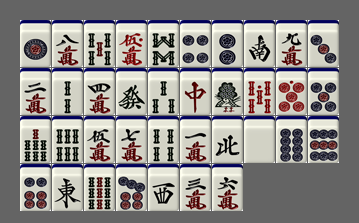0m: (116, 20, 147, 67)
0p: (276, 68, 307, 115)
0s: (244, 68, 275, 115)
1m: (180, 116, 211, 163)
1p: (20, 20, 51, 67)
1s: (212, 68, 243, 115)
1z: (52, 164, 83, 211)
2m: (20, 68, 51, 115)
2p: (212, 20, 243, 67)
2s: (52, 68, 83, 115)
2z: (244, 20, 275, 67)
3m: (180, 164, 211, 211)
3p: (308, 20, 339, 67)
3s: (148, 68, 179, 115)
3z: (148, 164, 179, 211)
4m: (84, 68, 115, 115)
4p: (180, 20, 211, 67)
4s: (148, 116, 179, 163)
4z: (212, 116, 243, 163)
5m: (84, 116, 115, 163)
5p: (308, 68, 339, 115)
5s: (84, 20, 115, 67)
5z: (244, 116, 275, 163)
6m: (212, 164, 243, 211)
6p: (20, 164, 51, 211)
6s: (52, 116, 83, 163)
6z: (116, 68, 147, 115)
7m: (116, 116, 147, 163)
7p: (116, 164, 147, 211)
7s: (20, 116, 51, 163)
7z: (180, 68, 211, 115)
8m: (52, 20, 83, 67)
8p: (276, 116, 307, 163)
8s: (148, 20, 179, 67)
9m: (276, 20, 307, 67)
9p: (308, 116, 339, 163)
9s: (84, 164, 115, 211)
